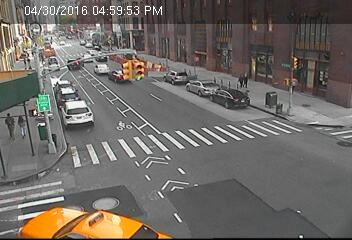neg: (122, 151, 154, 195), (304, 61, 331, 98), (87, 117, 113, 152), (74, 200, 99, 233), (73, 78, 92, 102), (87, 31, 98, 45), (48, 40, 55, 49), (69, 38, 74, 45)
